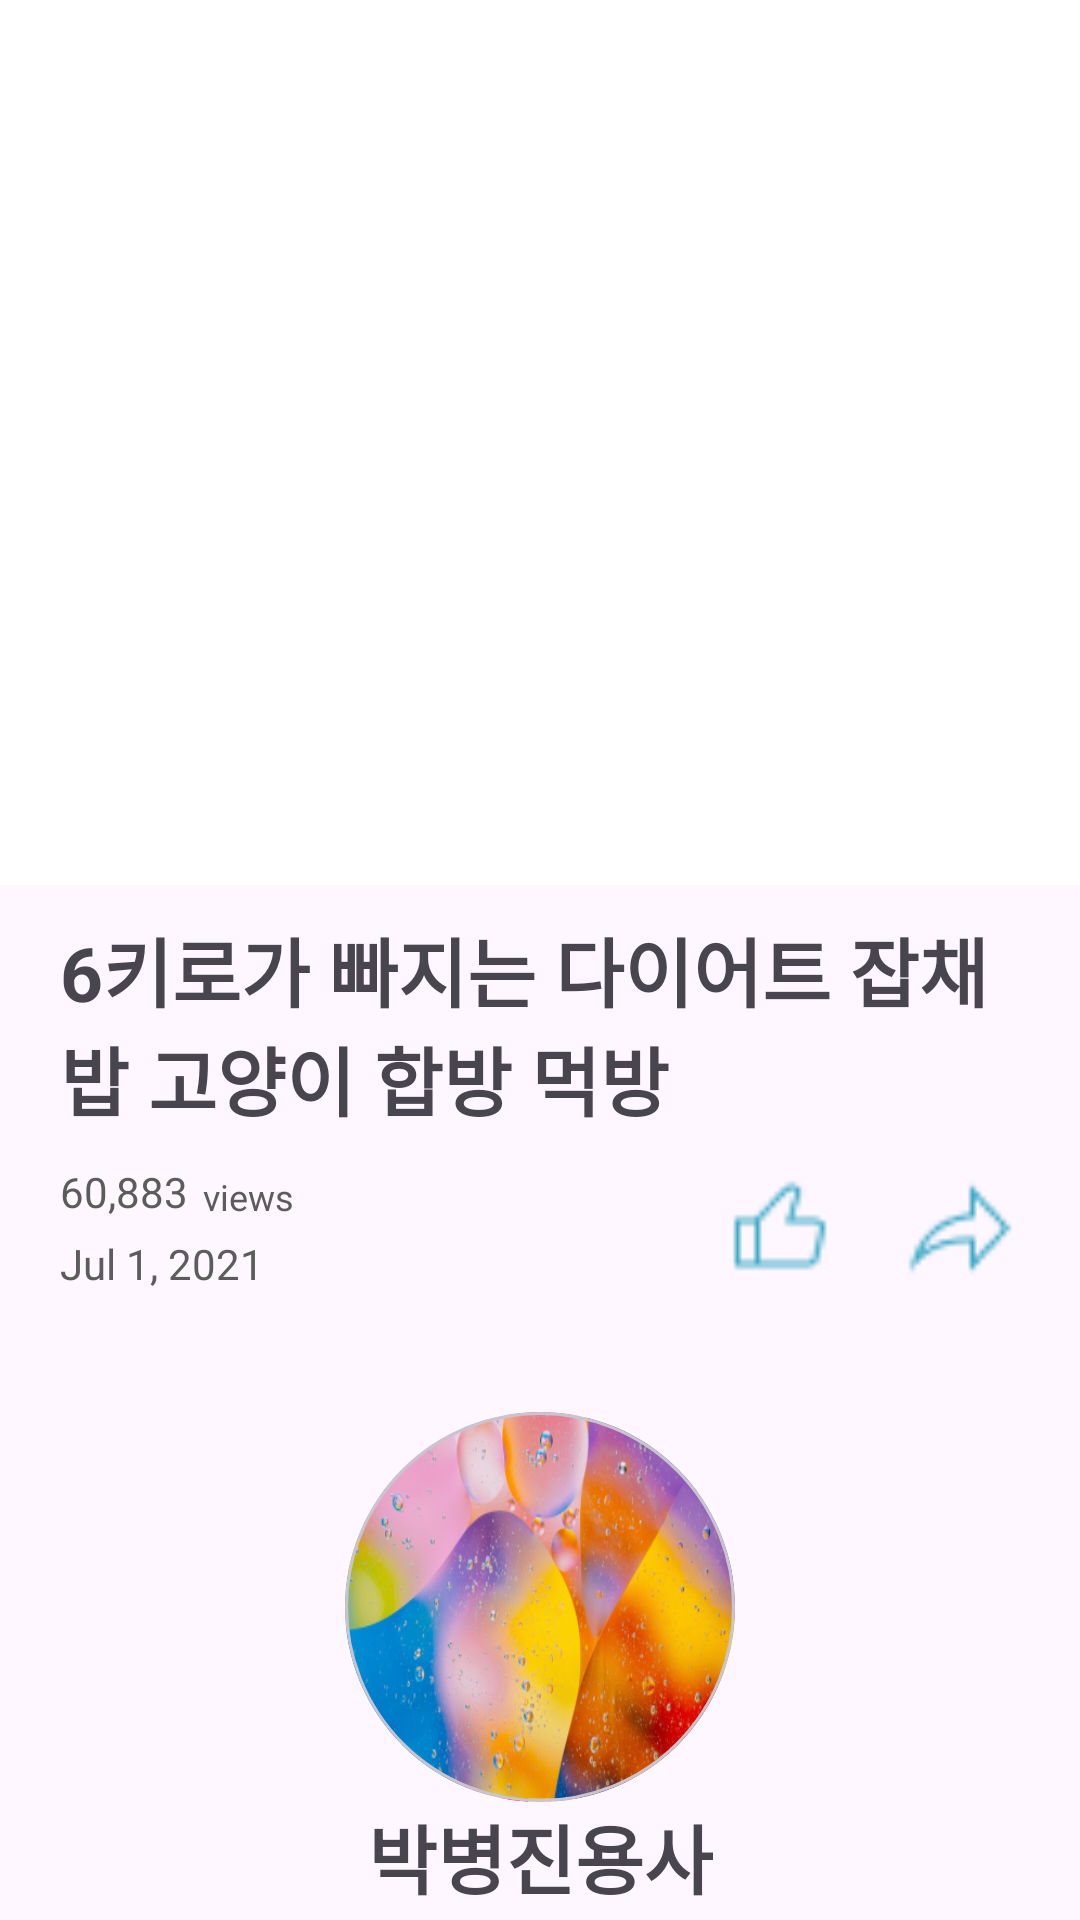

Locate icon controls on the screen. Image size 1080×1920, boxes as (x1, y1, x2, y2).
good: (733, 1181, 827, 1270)
share: (909, 1185, 1012, 1271)
